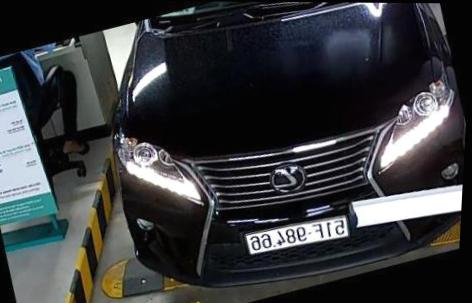License_Plate: (239, 208, 351, 269)
